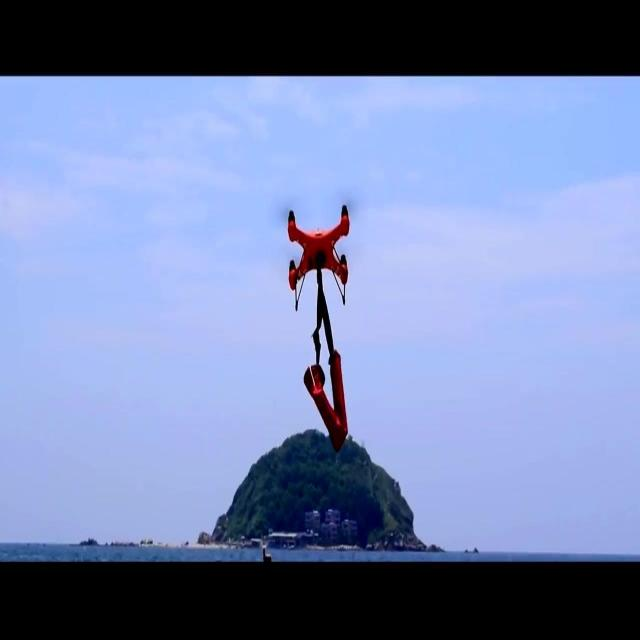UAV: (288, 205, 350, 312)
